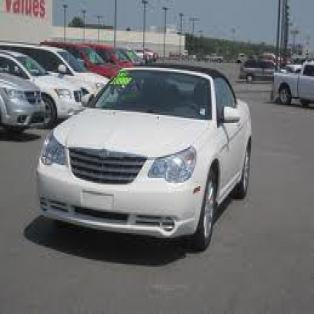Auto: (36, 62, 254, 252)
